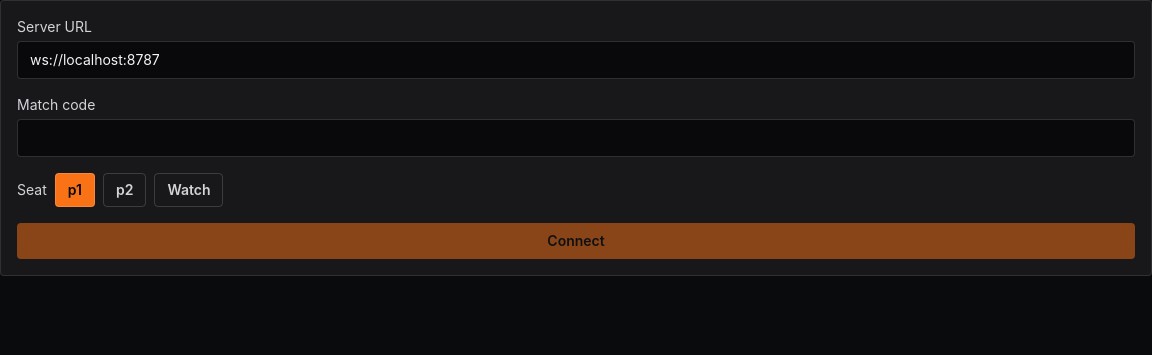
Scenario: @opencards/app OnlinePlay › shows an invalid-server-message error on unparseable payloads
Type "room-1" into the field with test id "online-match-code".
click(576, 138); type("room-1")  # box [17,119,1135,157]
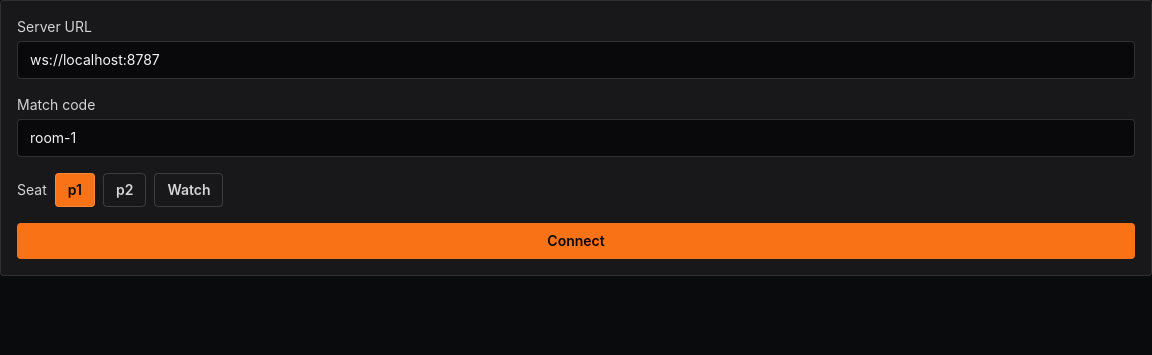
Click the button with test id "online-connect".
click(576, 241)  # box [17,223,1135,259]
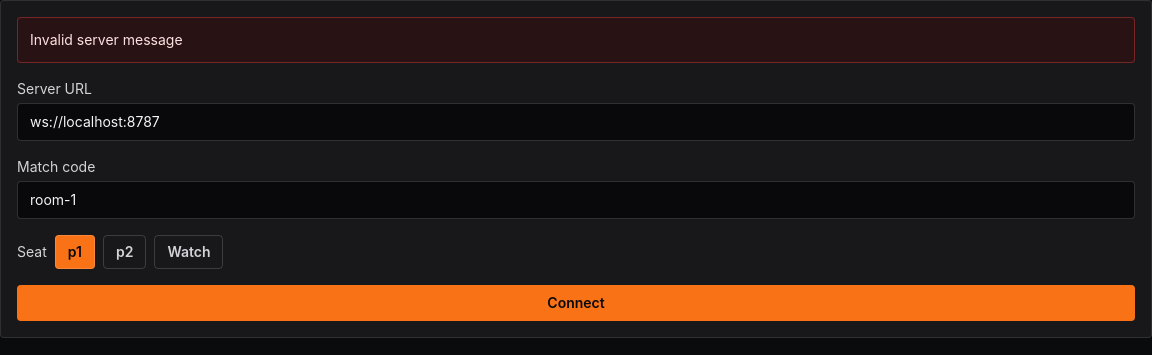
Result: the text with test id "online-error" reads "Invalid server message" at [30,31,183,48]
